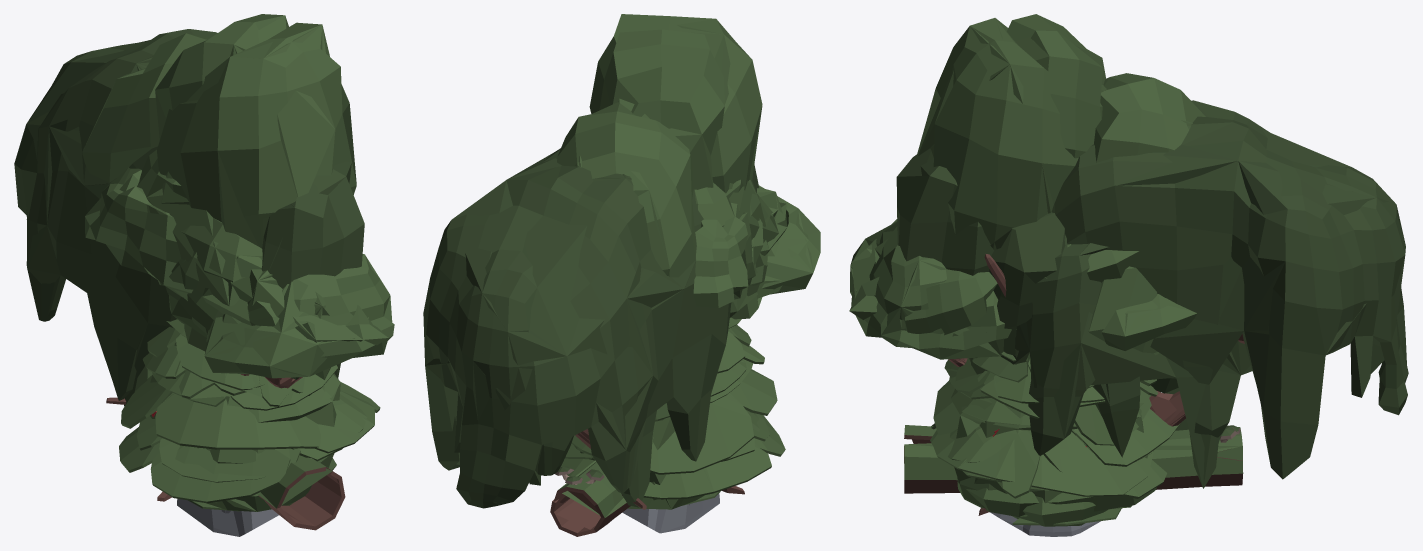
The model's file is nature.glb.
3 views of the same model, side by side, from view 1: azimuth 30°, elevation 25°; view 2: azimuth 150°, elevation 25°; view 3: azimuth 270°, elevation 25° (orthographic). The views are drawn at different scales.
Parts seen in each view (by area): view 1: BirchTree_2 (×2), Willow_2 (×2), CommonTree_1 (×2), CommonTree_2 (×2), PineTree_2, PineTree_3, BirchTree_1, CommonTree_4, BirchTree_3 (×2), PineTree_1, WoodLog_Moss (×2), Bush_1 (×2) (+4 smaller); view 2: Willow_2 (×2), BirchTree_1 (×2), BirchTree_3 (×2), BirchTree_2 (×2), PineTree_2, PineTree_3, CommonTree_4, WoodLog_Moss (×2), CommonTree_1 (×2), CommonTree_2 (×2), Willow_1, Rock_Moss_4 (+4 smaller); view 3: Willow_2 (×2), BirchTree_2 (×2), Willow_1 (×2), BirchTree_3 (×2), CommonTree_1 (×2), BirchTree_1, PineTree_1, CommonTree_2 (×2), PineTree_3, WoodLog_Moss, PineTree_2, Bush_1 (+4 smaller).
Boxes of the visible parts, bbox=[...] form: BirchTree_2 (×2): bbox=[157, 22, 364, 379]; Willow_2 (×2): bbox=[14, 29, 217, 400]; CommonTree_1 (×2): bbox=[204, 254, 394, 379]; CommonTree_2 (×2): bbox=[137, 149, 388, 388]; PineTree_2: bbox=[121, 327, 320, 449]; PineTree_3: bbox=[119, 343, 380, 503]; BirchTree_1: bbox=[82, 33, 210, 182]; CommonTree_4: bbox=[85, 167, 192, 297]; BirchTree_3 (×2): bbox=[155, 14, 288, 204]; PineTree_1: bbox=[137, 342, 374, 482]; WoodLog_Moss (×2): bbox=[106, 370, 345, 530]; Bush_1 (×2): bbox=[198, 380, 337, 511]; Willow_2 (×2): bbox=[423, 148, 731, 508]; BirchTree_1 (×2): bbox=[557, 102, 696, 277]; BirchTree_3 (×2): bbox=[599, 29, 744, 210]; BirchTree_2 (×2): bbox=[589, 14, 762, 193]; PineTree_2: bbox=[571, 325, 777, 474]; PineTree_3: bbox=[560, 343, 785, 499]; CommonTree_4: bbox=[693, 212, 755, 308]; WoodLog_Moss (×2): bbox=[550, 460, 646, 536]; CommonTree_1 (×2): bbox=[757, 185, 820, 298]; CommonTree_2 (×2): bbox=[694, 179, 788, 255]; Willow_1: bbox=[529, 403, 666, 507]; Rock_Moss_4: bbox=[622, 493, 719, 533]; Willow_2 (×2): bbox=[1051, 100, 1408, 479]; BirchTree_2 (×2): bbox=[896, 18, 1078, 275]; Willow_1 (×2): bbox=[969, 243, 1252, 488]; BirchTree_3 (×2): bbox=[989, 14, 1106, 355]; CommonTree_1 (×2): bbox=[850, 221, 1196, 363]; BirchTree_1: bbox=[1088, 73, 1205, 393]; PineTree_1: bbox=[931, 351, 1157, 496]; CommonTree_2 (×2): bbox=[849, 219, 1139, 366]; PineTree_3: bbox=[930, 370, 1166, 498]; WoodLog_Moss: bbox=[904, 425, 1243, 493]; PineTree_2: bbox=[933, 358, 1180, 482]; Bush_1: bbox=[950, 388, 1141, 516].
Size of the model in its own units: 2.2 by 4.29 by 4.41.
